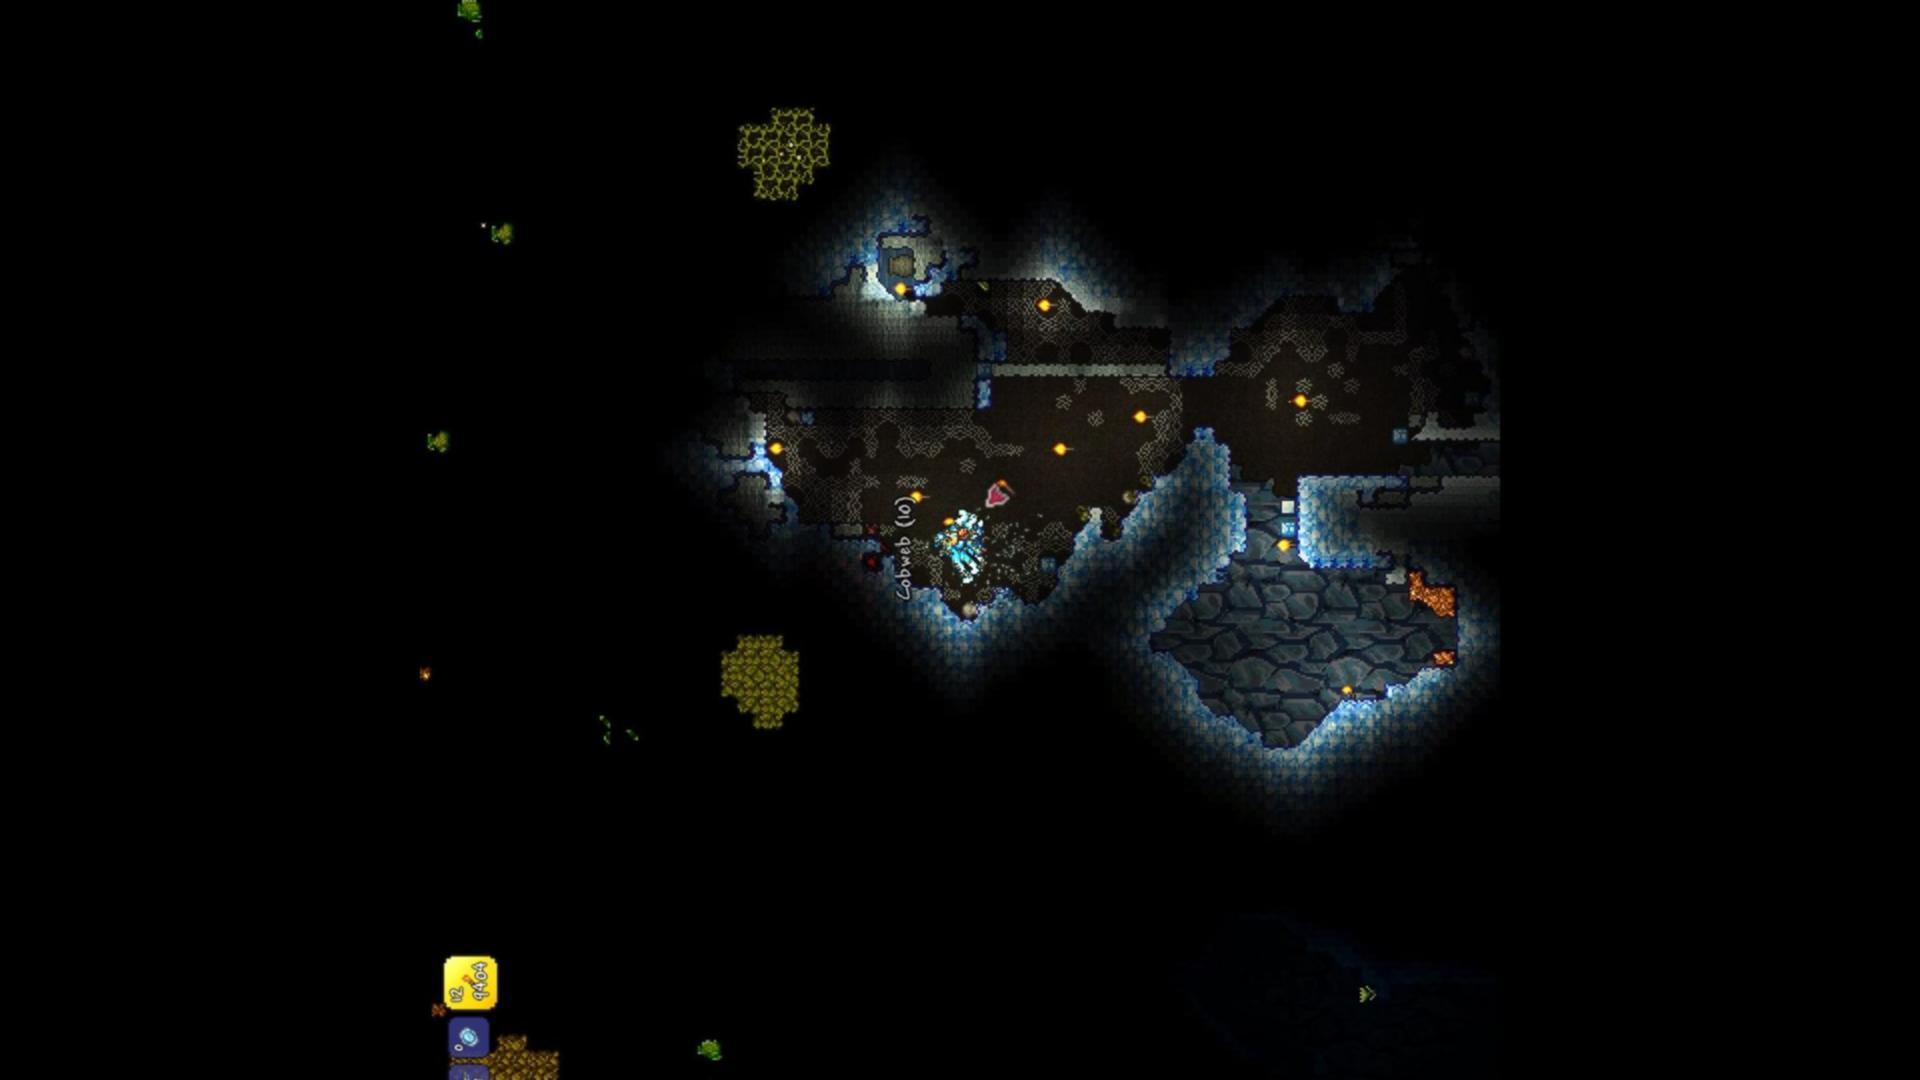cobwebT: (806, 471, 862, 522), (1133, 436, 1182, 473), (898, 413, 939, 454), (978, 436, 1021, 455), (952, 458, 977, 476)
